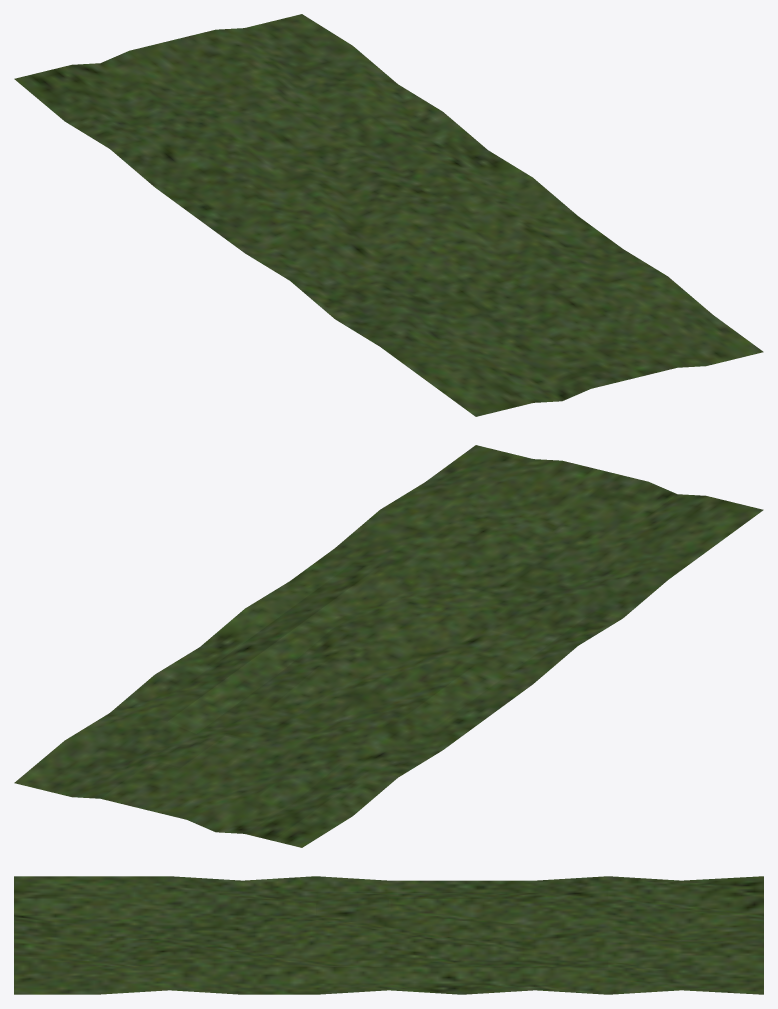
The model's file is grass.fbx.
3 renders of one model, top to bottom at view 1: azimuth 30°, elevation 25°; view 2: azimuth 150°, elevation 25°; view 3: azimuth 270°, elevation 25°, orthographic. The views are drawn at different scales.
Visible parts, largest first — view 1: Plane; view 2: Plane; view 3: Plane.
Boxes of the visible parts, left/top/right/bottom form: Plane: left=14, top=14, right=763, bottom=416; Plane: left=14, top=445, right=763, bottom=847; Plane: left=14, top=876, right=763, bottom=994.
Bounding box in the file's own units: 1441 × 25.93 × 4000.
1 material, 1 textured.
